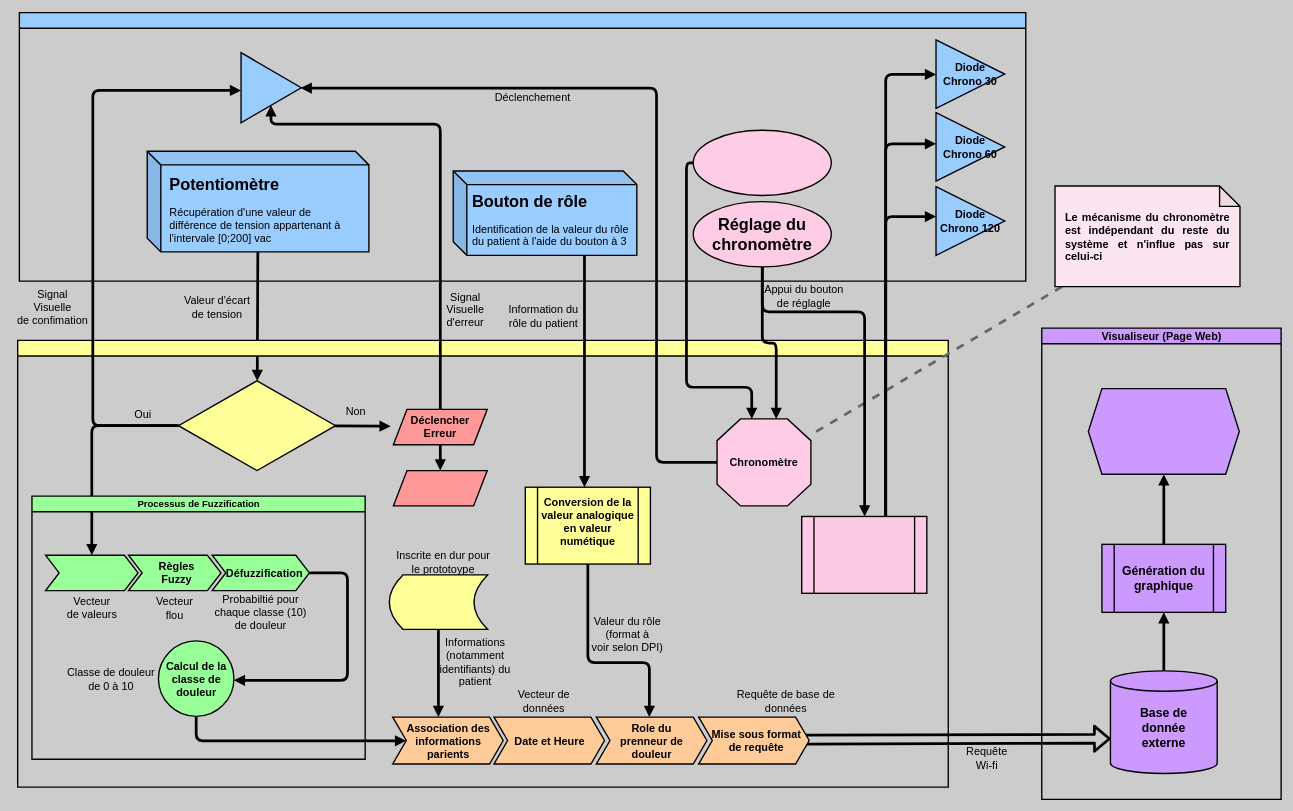
Image size: 1293x811. Some labels were removed from this diagram. The box of each missing label's shape, as (x1, y1, x2, y2) in pixels:
Affichage au format web: (1087, 388, 1240, 475)
Diode: (240, 52, 302, 123)
Fuzzification: (45, 554, 138, 591)
Informations patients: (388, 574, 488, 630)
La valeur est-elle correcte ? (format, intervalle): (177, 380, 336, 471)
Partie Informatique (ESP32): (17, 339, 949, 787)
Partie Physique: (18, 12, 1026, 282)
Processus de Gestion des diodes: (801, 515, 927, 594)
Reset du dispositif: (392, 470, 488, 506)
Valeur du chronomètre: (692, 129, 832, 196)
